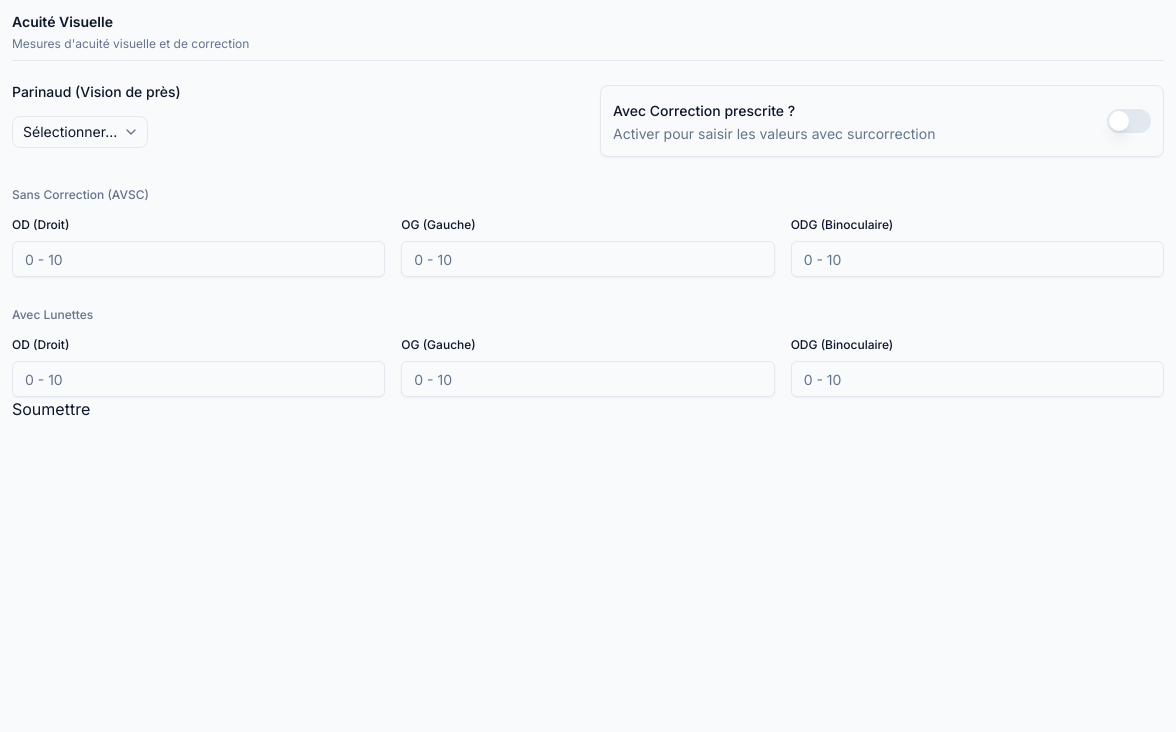
Test: VisualAcuityForm › switch Correction activé › masque les champs prescrits quand le switch est désactivé
Step 1. Click the switch named "avec correction prescrite" → (1129, 121), box 1107,109 -> 1151,133
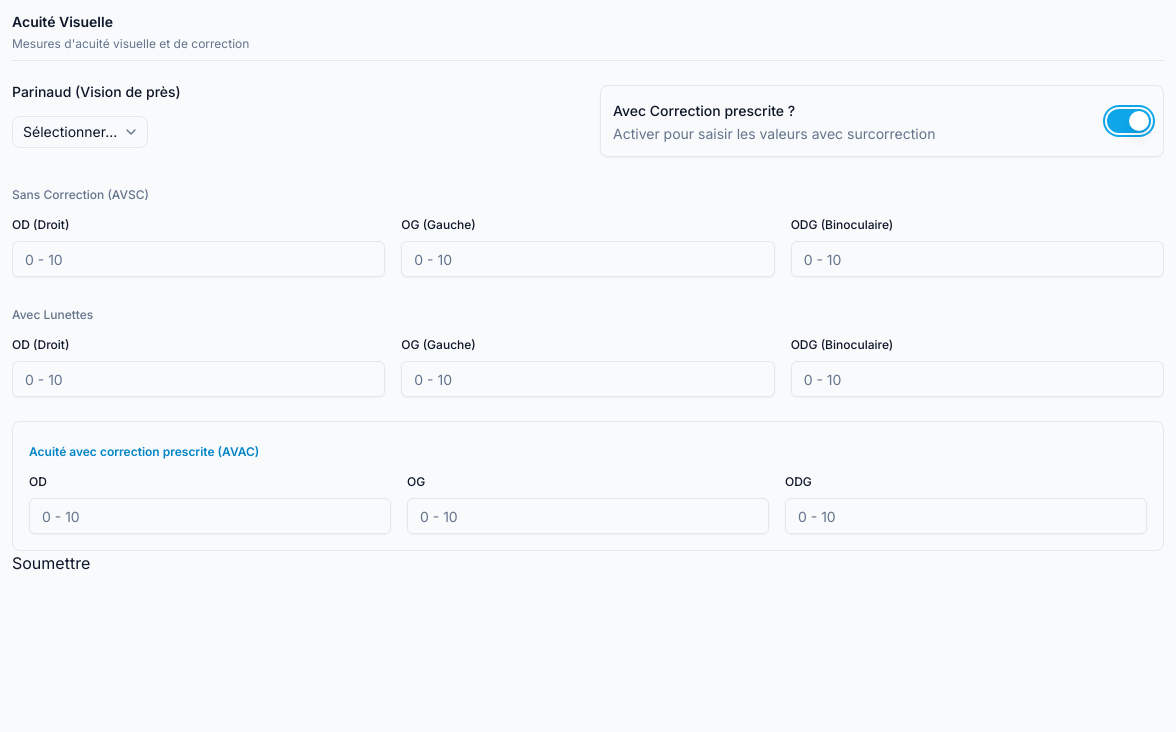
expect the text "Acuité avec correction prescrite (AVAC)" is shown: met, box 29,444 -> 259,459
Step 2. Click the switch named "avec correction prescrite" → (1129, 121), box 1107,109 -> 1151,133
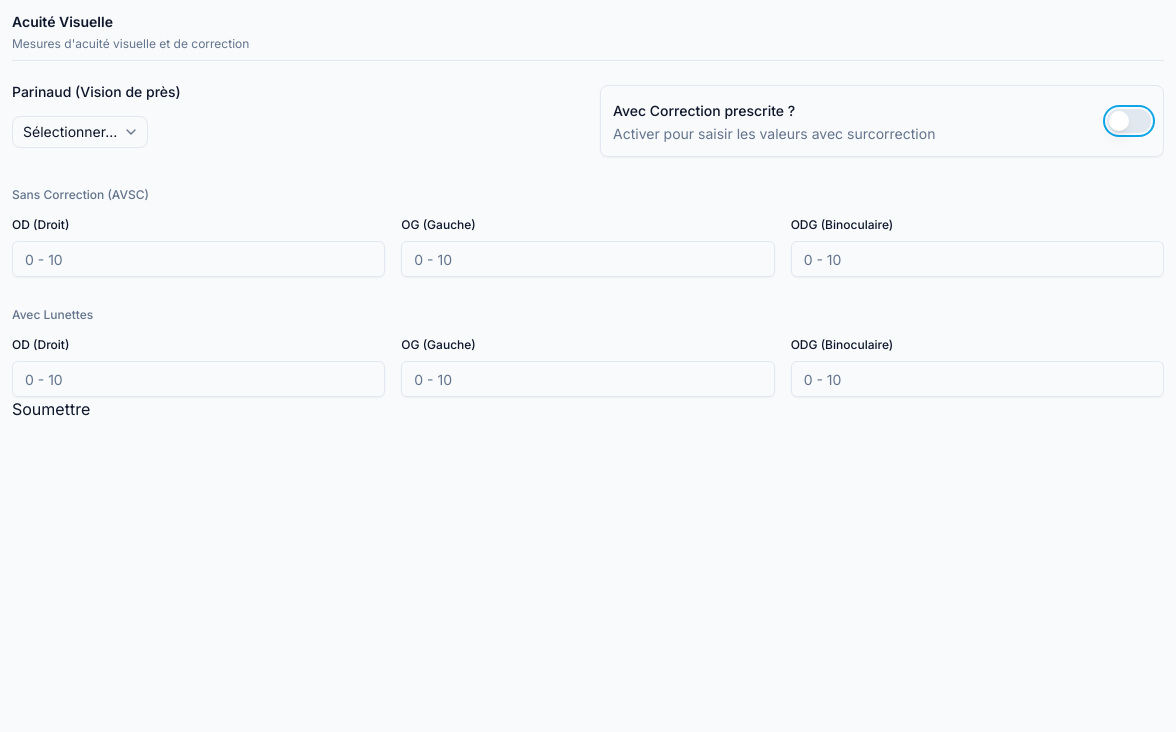
expect the text "Acuité avec correction prescrite" is gone: met
